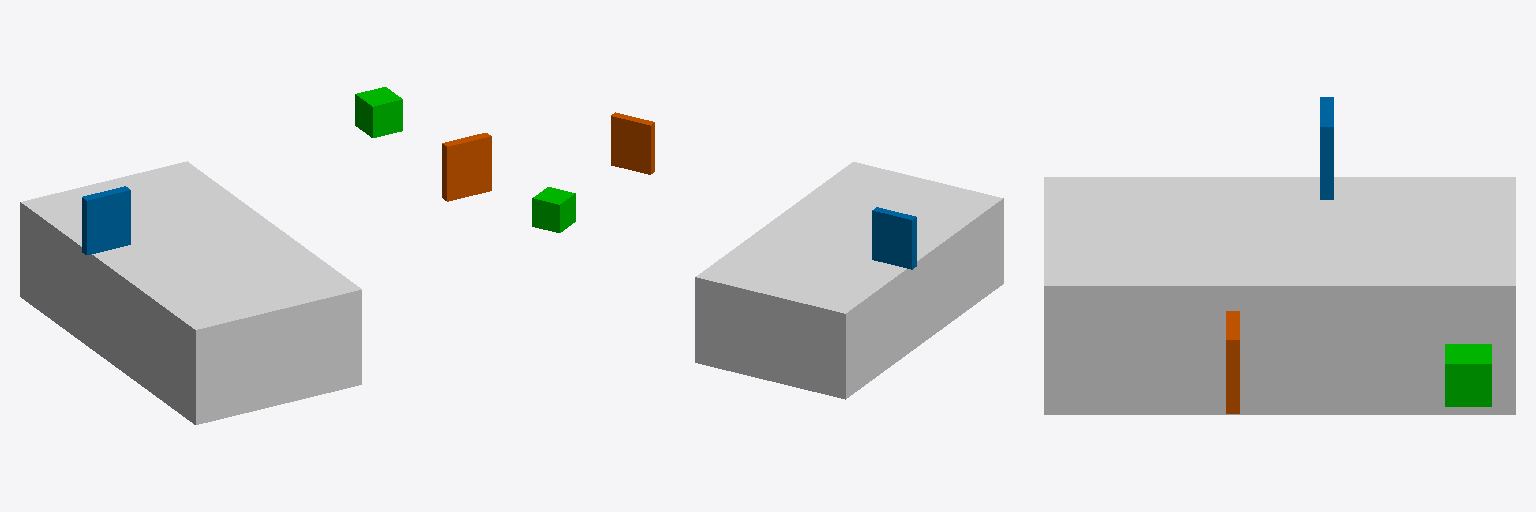
robot.urdf — cube_scene:
<?xml version="1.0"?>
  <robot name="cube_scene">
    <link name="base_link"/>

    <link name="table">
      <visual>
        <geometry>
          <box size="0.55 1.0 0.3" />
        </geometry>
        <origin rpy="0 0 0" xyz="0 0 0" />

<material name = "">
          <color rgba="0.9 0.9 0.9 1.0"/>
</material>

      </visual>

      <collision>
        <geometry>
          <box size="0.55 1.0 0.3" />
        </geometry>
        <origin rpy="0 0 0" xyz="0 0 0" />       
       </collision>
    </link>

  

    <link name="cone2">
      <visual>
        <geometry>
          <mesh filename="file://[local-path]/Desktop/blenderFLEX/cone.dae" scale="0.052 0.052 0.052" />
        </geometry>
        <origin rpy="0 0 0" xyz="0 0 0" />
      <material name = "">
          <color rgba="1.0 0.5 0.0 1.0"/>
      </material>
      
      </visual>
      
      <collision>     
        <geometry>
          <mesh filename="file://[local-path]/Desktop/blenderFLEX/cone.dae" scale="0.052 0.052 0.052"/>
        </geometry>
        <origin rpy="0 0 0" xyz="0 0 0" />  
       </collision>

    </link>

    <link name="cube1">
      <visual>
        <geometry>
          <box size="0.1 0.1 0.1"/>
        </geometry>
        <origin rpy="0 0 0" xyz="0 0 0" />
      <material name = "">
          <color rgba="0.0 0.8 0.0 1.0"/>
      </material>
      </visual>
      <collision>
        <geometry>
          <box size="0.1 0.1 0.1"/>
        </geometry>
        <origin rpy="0 0 0" xyz="0 0 0" />       
       </collision>
    </link>

     <link name="door1">
      <visual>
        <geometry>
          <box size="0.03 0.146 0.173"/>
        </geometry>
        <origin rpy="0 0 0" xyz="0.0 0.073 0" />
      </visual>
      <collision>
        <geometry>  
          <box size="0.03 0.146 0.173"/>
        </geometry>
        <origin rpy="0 0 0" xyz="0.0 0.073 0" />       
       </collision>
    </link>


     <link name="door2">
      <visual>
      <origin rpy="0 0 0" xyz="0 0 0" />
        <geometry>
          <box size="0.03 0.146 0.173"/>
        </geometry>
      </visual>
      <collision>       
        <geometry>  
          <box size="0.03 0.146 0.173"/>
        </geometry>
        <origin rpy="0 0 0" xyz="0 0 0" />
       </collision>
    </link>


<joint name="table_j" type="fixed">
    <origin rpy="0 0 0" xyz="0.75 -0.6 0.63" />
    <parent link="base_link" />
    <child link="table" />
    <axis xyz="0 1 0" />
  </joint>



<joint name="cube_joint" type="prismatic">
    <origin rpy="0 0 0" xyz="1.60 -0.2 0.84" />
    <parent link="base_link" />
    <child link="cube1" />
    <axis xyz="0 -1 0" />

  <limit lower="0" upper="1.0" effort="0.05" velocity="1.57"/>
  </joint>


    <joint name="door_joint1" type="revolute">
        <origin rpy="0 0 1.57" xyz="0.6 -0.5 0.87"/>
        <parent link="base_link"/>
        <child link="door1"/>
        <axis xyz="0 0 1"/>
        <limit lower="-1.60" upper="0" effort="0.05" velocity="1.57"/>
    </joint>

    <joint name="door_joint2" type="prismatic">
        <origin rpy="0 0 1.57" xyz="1.6 -0.7 0.87"/>
        <parent link="base_link"/>
        <child link="door2"/>
        <axis xyz="0.0 -1.0 0.0"/>
        <limit lower="0" upper="0.4" effort="0.05" velocity="1.57"/>
    </joint>



 <joint name="cone_joint2" type="fixed">
    <origin rpy="0 0 0" xyz="0.75 -0.96 0.775" />
    <parent link="base_link" />
    <child link="cone2" />
    <axis xyz="0 1 0" />
  </joint>





</robot>

--- What the picture shows (computed from the rendered views, not written in the file) ---
The picture shows the robot from 3 angles, left to right: view 1: azimuth 30°, elevation 25°; view 2: azimuth 150°, elevation 25°; view 3: azimuth 270°, elevation 25°; orthographic projection.
Model cube_scene with 6 links and 5 joints (1 revolute, 2 prismatic, 2 fixed), rooted at base_link, posed every joint at zero.
Links seen in each view (by area): view 1: table, door2, door1, cube1; view 2: table, door1, door2, cube1; view 3: table, cube1, door1, door2.
Boxes of the visible links, x1=… form: table: x1=20, y1=161, x2=361, y2=424; door2: x1=442, y1=133, x2=491, y2=201; door1: x1=82, y1=186, x2=130, y2=254; cube1: x1=355, y1=87, x2=402, y2=137; table: x1=695, y1=162, x2=1003, y2=399; door1: x1=872, y1=207, x2=916, y2=269; door2: x1=611, y1=112, x2=654, y2=174; cube1: x1=532, y1=187, x2=575, y2=232; table: x1=1044, y1=177, x2=1515, y2=414; cube1: x1=1445, y1=344, x2=1491, y2=406; door1: x1=1320, y1=97, x2=1333, y2=199; door2: x1=1226, y1=311, x2=1239, y2=413.
Bounding box of the posed robot: 1.22 × 1 × 0.4765 m (x, y, z).
Geometry: only primitive shapes (box / cylinder / sphere) drawn; not drawn: 1 mesh visual (reference in a form the renderer does not follow).